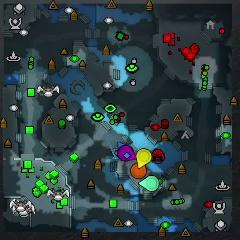p1: (117, 141, 125, 148)
p2: (138, 176, 159, 191)
p3: (117, 145, 136, 161)
p4: (137, 148, 151, 168)
p5: (130, 162, 148, 179)
